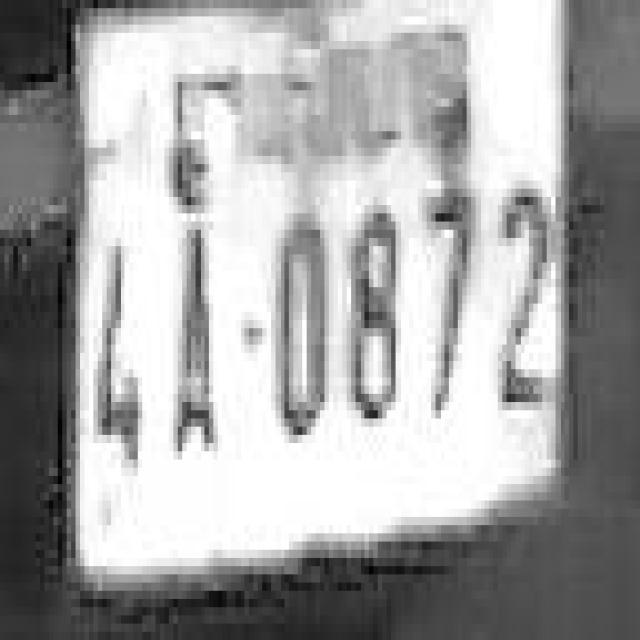Preah_Sihanouk: (178, 8, 472, 200)
